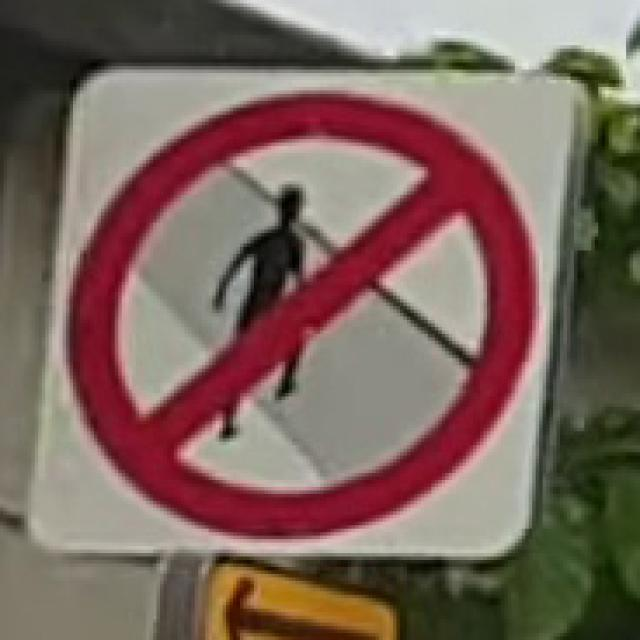nojaywalking_sign: (25, 59, 578, 564), (202, 174, 323, 445)
